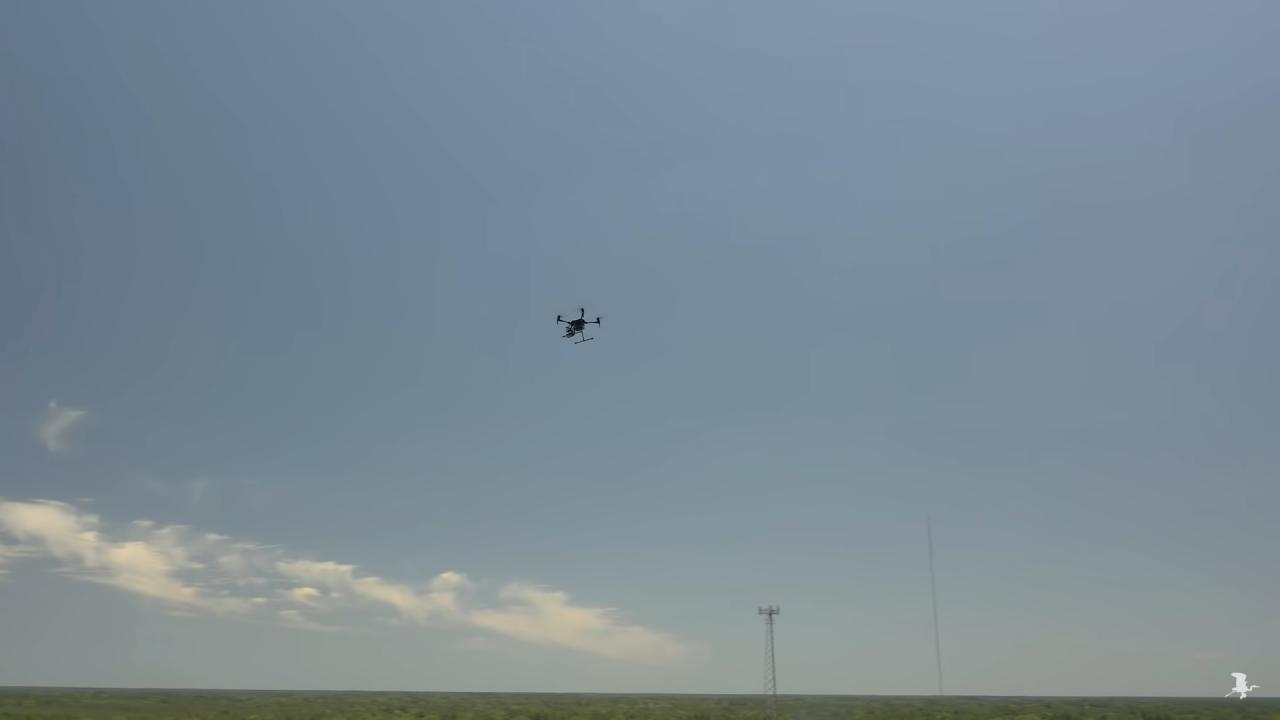Drone: (547, 296, 611, 357)
